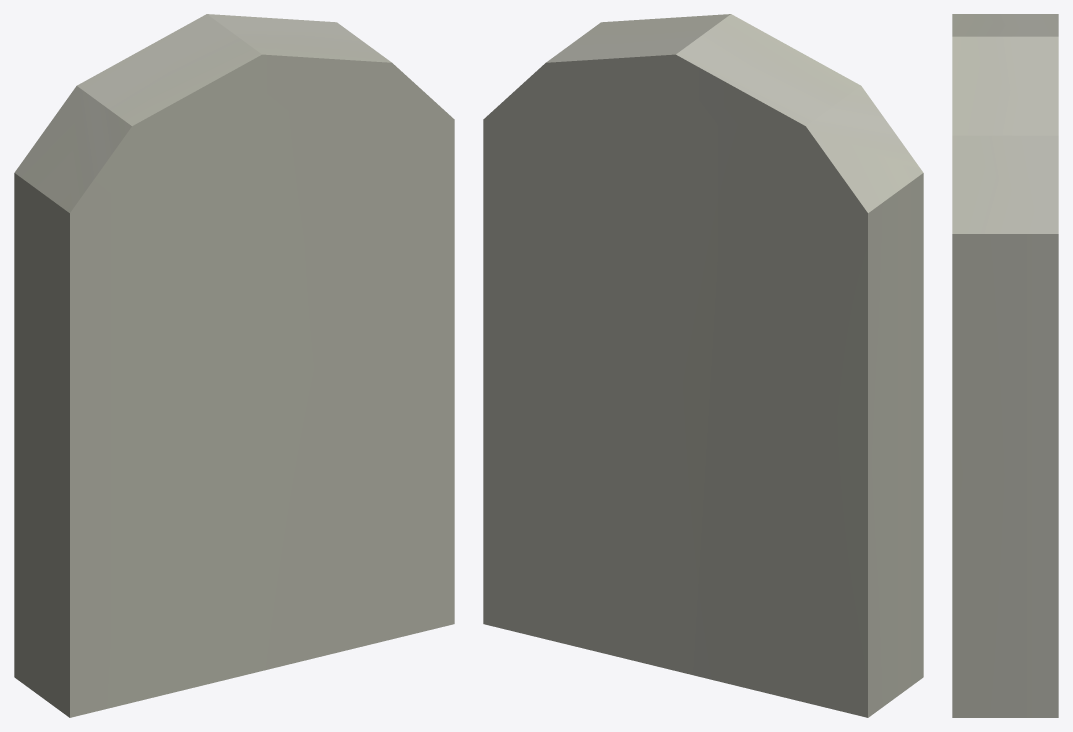
The model's file is mogila2.fbx.
3 views of the same model, side by side, from view 1: azimuth 30°, elevation 25°; view 2: azimuth 150°, elevation 25°; view 3: azimuth 270°, elevation 25° (orthographic). The views are drawn at different scales.
Parts seen in each view (by area): view 1: Cube.085; view 2: Cube.085; view 3: Cube.085.
Boxes of the visible parts, x1,y1,x2,y2 form: Cube.085: [14, 14, 454, 717]; Cube.085: [483, 14, 923, 717]; Cube.085: [952, 14, 1058, 717].
Size of the model in its own units: 123 by 189 by 30.77.
